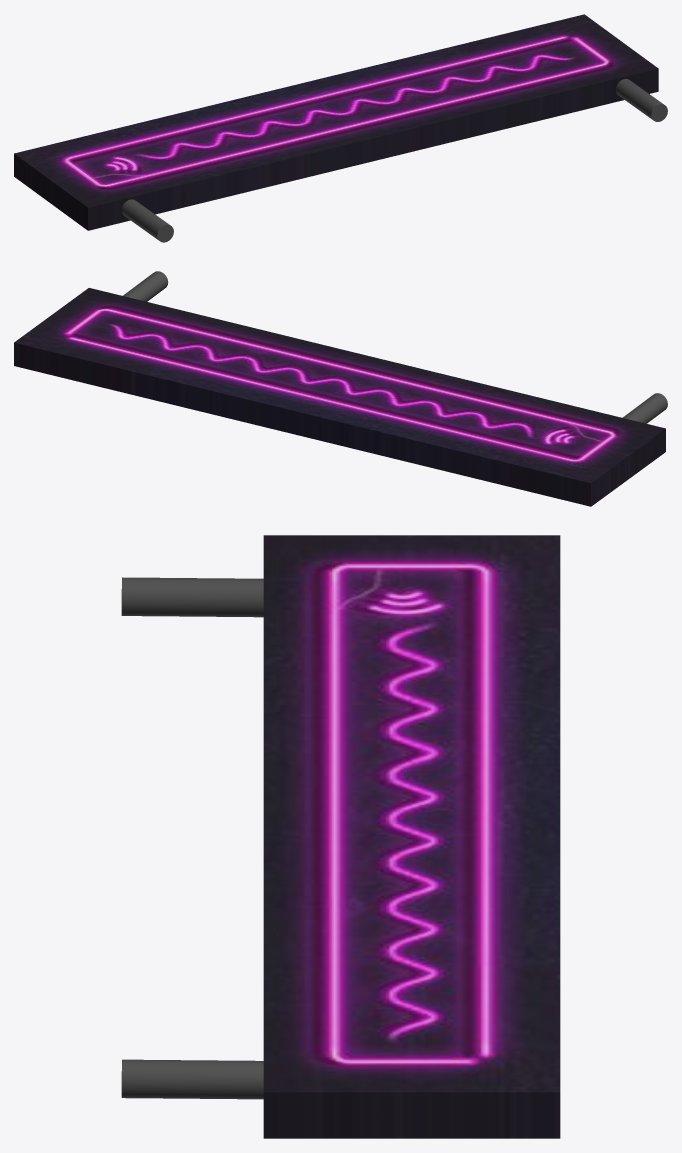
The model's file is saine 2.fbx.
The picture shows the model from 3 angles, top to bottom: view 1: azimuth 30°, elevation 25°; view 2: azimuth 150°, elevation 25°; view 3: azimuth 270°, elevation 25°; orthographic projection. The views are drawn at different scales.
Visible parts, largest first — view 1: r, Cylinder001, Cylinder002; view 2: r, Cylinder001, Cylinder002; view 3: r, Cylinder002, Cylinder001.
Boxes of the visible parts, <box> form: r: <box>14,14,658,230</box>; Cylinder001: <box>121,199,173,242</box>; Cylinder002: <box>615,79,667,121</box>; r: <box>14,288,665,506</box>; Cylinder001: <box>622,393,667,423</box>; Cylinder002: <box>123,271,168,301</box>; r: <box>263,535,560,1138</box>; Cylinder002: <box>121,1059,263,1099</box>; Cylinder001: <box>121,577,263,617</box>.
Bounding box in the file's own units: 47.64 × 1.84 × 15.86.
Materials: 2 (1 with a texture image).
